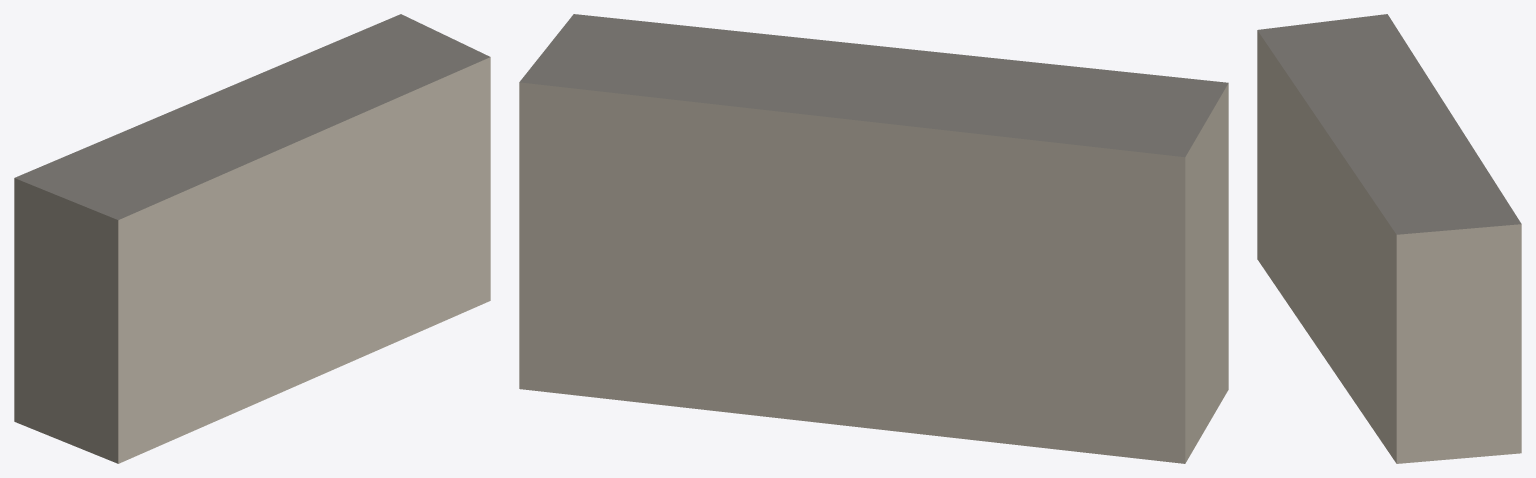
3 views of the same model, side by side, from view 1: azimuth 30°, elevation 25°; view 2: azimuth 150°, elevation 25°; view 3: azimuth 270°, elevation 25° (orthographic). The views are drawn at different scales.
Visible parts, largest first — view 1: HP-w505649237; view 2: HP-w505649237; view 3: HP-w505649237.
Part boxes in pixels (box(x1,y1,x2,y2)): HP-w505649237: box(14, 14, 490, 463); HP-w505649237: box(519, 14, 1228, 463); HP-w505649237: box(1257, 14, 1521, 463).
Size of the model in its own units: 37.19 by 18 by 18.83.
